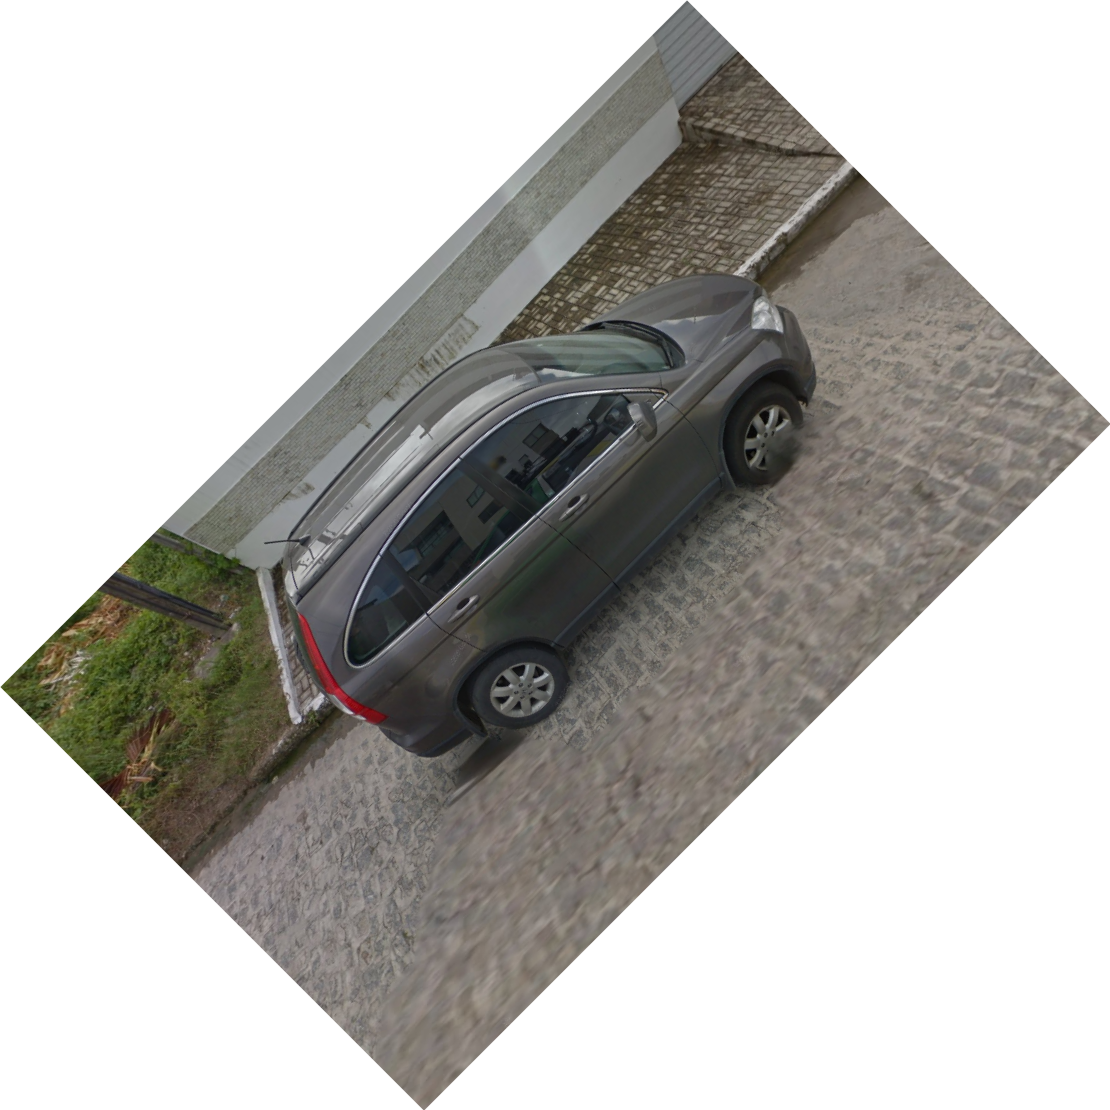car: (257, 270, 820, 760)
